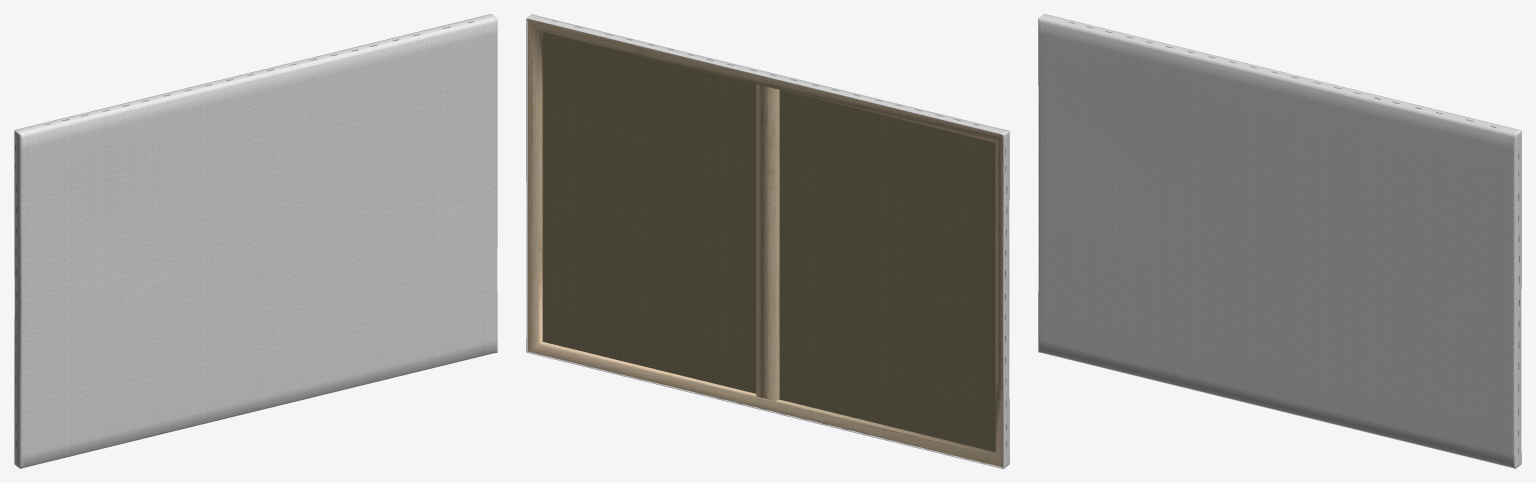
File: blank_canvas.glb
3 views of the same model, side by side, from view 1: azimuth 30°, elevation 25°; view 2: azimuth 150°, elevation 25°; view 3: azimuth 330°, elevation 25° (orthographic).
Parts seen in each view (by area): view 1: Object_2; view 2: Object_2; view 3: Object_2.
Part boxes in pixels (x1,y1,x2,y2): Object_2: (14, 14, 497, 468); Object_2: (526, 14, 1009, 468); Object_2: (1038, 14, 1521, 468).
Bounding box in the file's own units: 1.3 × 0.8731 × 0.0318.
1 material, 1 textured.
